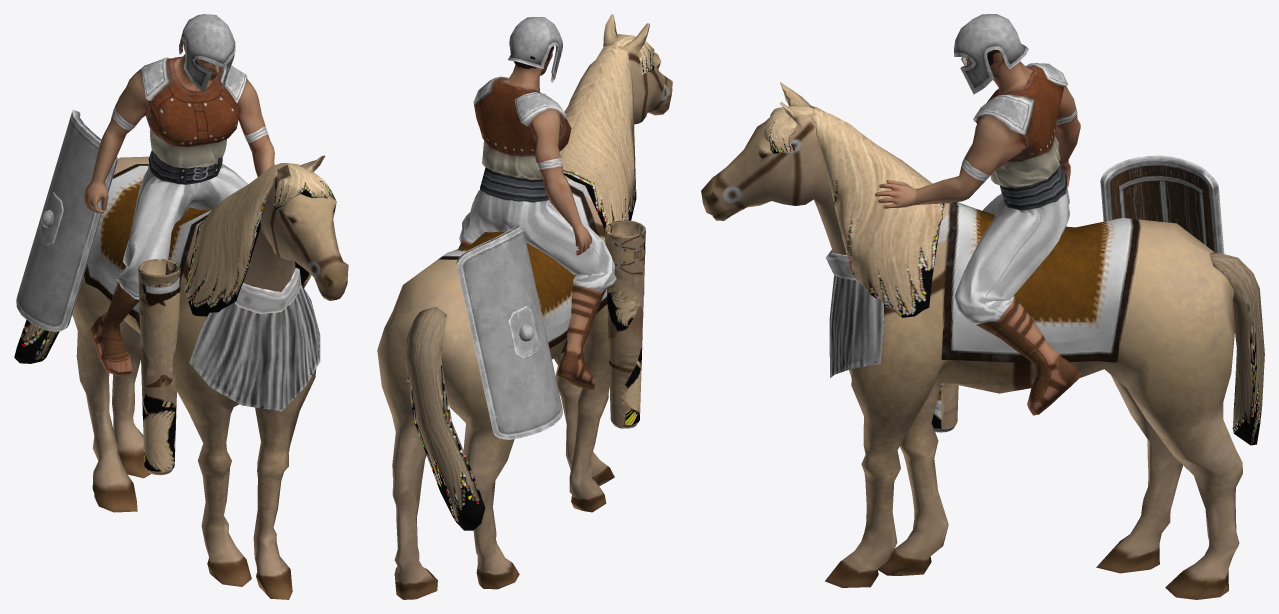
Rendered from 22-turma.glb.
3 views of the same model, side by side, from view 1: azimuth 30°, elevation 25°; view 2: azimuth 150°, elevation 25°; view 3: azimuth 270°, elevation 25° (orthographic). The views are drawn at different scales.
Size of the model in its own units: 1.02 by 2.9 by 2.63.
Materials: 4 (4 with a texture image).
